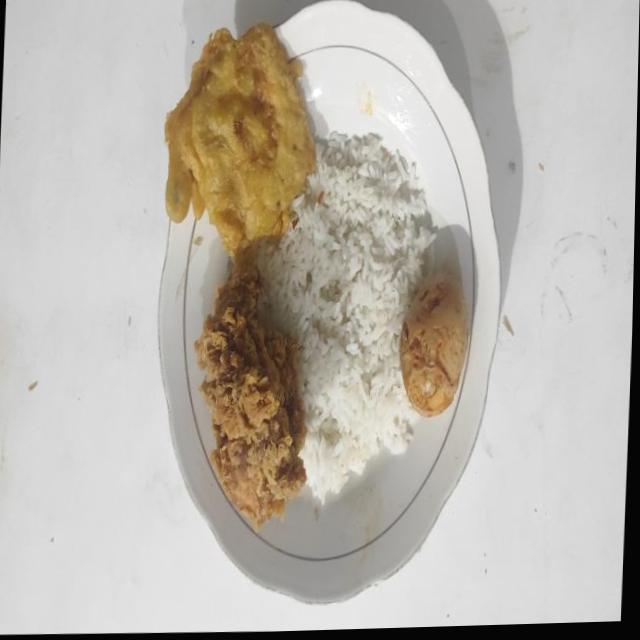nasi_putih: (258, 132, 437, 502)
